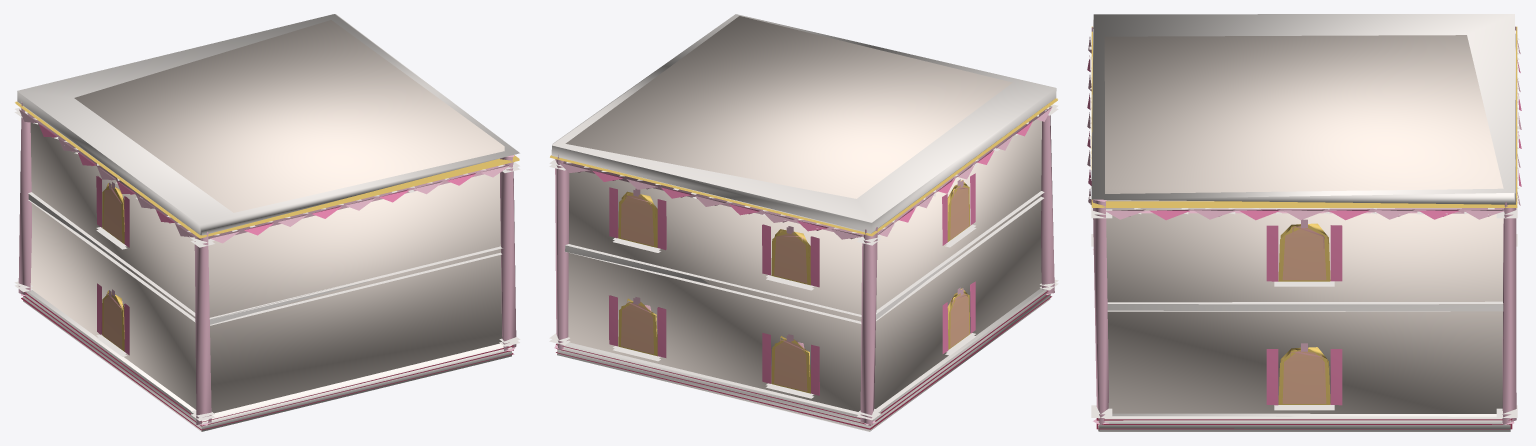
File: lod_house_shell_wide.glb
3 views of the same model, side by side, from view 1: azimuth 30°, elevation 25°; view 2: azimuth 150°, elevation 25°; view 3: azimuth 270°, elevation 25° (orthographic). The views are drawn at different scales.
Visible parts, largest first — view 1: house_shell_wide; view 2: house_shell_wide; view 3: house_shell_wide.
Boxes of the visible parts, x1,y1,x2,y2 form: house_shell_wide: (14, 14, 520, 431); house_shell_wide: (549, 14, 1058, 431); house_shell_wide: (1087, 14, 1521, 431).
Bounding box in the file's own units: 12.9 × 7.92 × 12.9.
